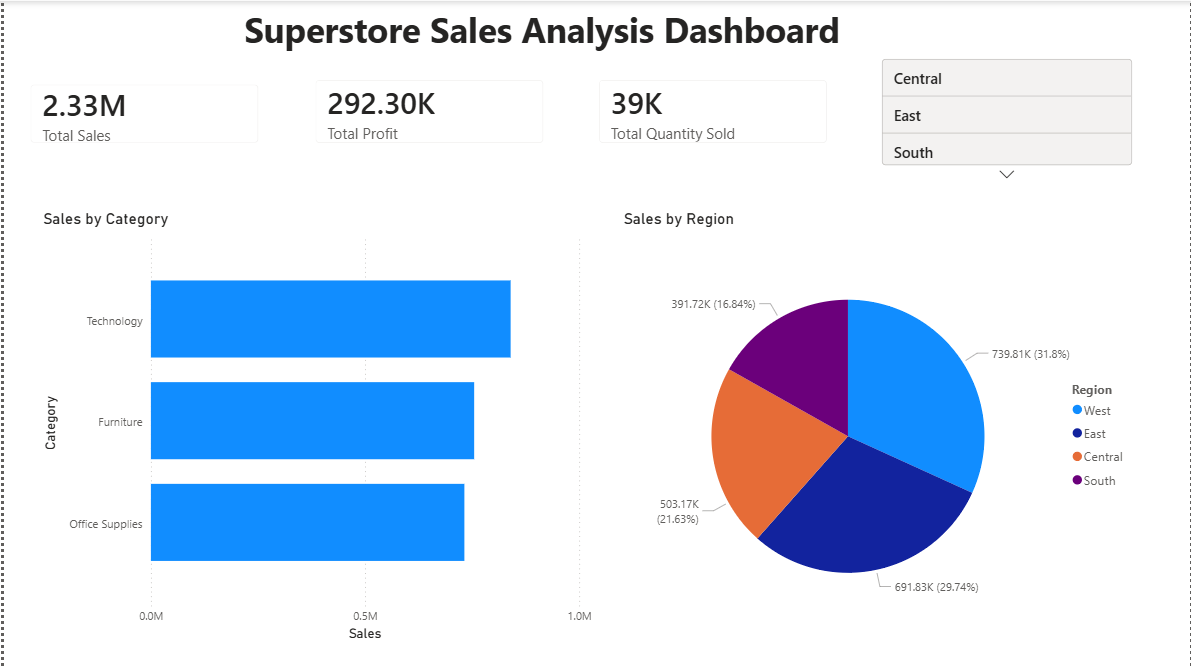

What the dashboard file says about the page in this screenshot:
{"tool":"powerbi","page":{"name":"Executive Overview","canvas":[1280,720],"ordinal":0},"visuals":[{"type":"cardVisual","fields":{"Data":["Sum(samplesuperstore.Sales)"]},"box":[11.3,72.9,280.1,97.2],"z":0},{"type":"cardVisual","fields":{"Data":["Sum(samplesuperstore.Profit)"]},"box":[319,68,280.1,102],"z":1000},{"type":"cardVisual","fields":{"Data":["Sum(samplesuperstore.Quantity)"]},"box":[625,68,280.1,102],"z":2000},{"type":"clusteredBarChart","fields":{"Category":["samplesuperstore.Category"],"Y":["Sum(samplesuperstore.Sales)"]},"box":[37.2,225.1,602.4,469.6],"z":3000},{"type":"cardVisual","fields":{"Data":["Min(samplesuperstore.Region)"],"Rows":["samplesuperstore.Region"]},"box":[942.4,37.2,280.1,165.2],"z":4000},{"type":"pieChart","fields":{"Category":["samplesuperstore.Region"],"Y":["Sum(samplesuperstore.Sales)"]},"box":[663.9,225.1,558.6,469.6],"z":5000},{"type":"textbox","box":[254.2,0,688.2,69.6],"z":10000}]}

Visuals, with their boxes in screenshot pixels (x1, y1, x2, y2), scaled from the page's 1280x720 canvas onto the 1191x666 screenshot:
cardVisual - Sum(samplesuperstore.Sales): bbox=(11, 67, 271, 157)
cardVisual - Sum(samplesuperstore.Profit): bbox=(297, 63, 557, 157)
cardVisual - Sum(samplesuperstore.Quantity): bbox=(582, 63, 842, 157)
clusteredBarChart - samplesuperstore.Category x Sum(samplesuperstore.Sales): bbox=(35, 208, 595, 643)
cardVisual - Min(samplesuperstore.Region) x samplesuperstore.Region: bbox=(877, 34, 1137, 187)
pieChart - samplesuperstore.Region x Sum(samplesuperstore.Sales): bbox=(618, 208, 1137, 643)
textbox: bbox=(237, 0, 877, 64)
